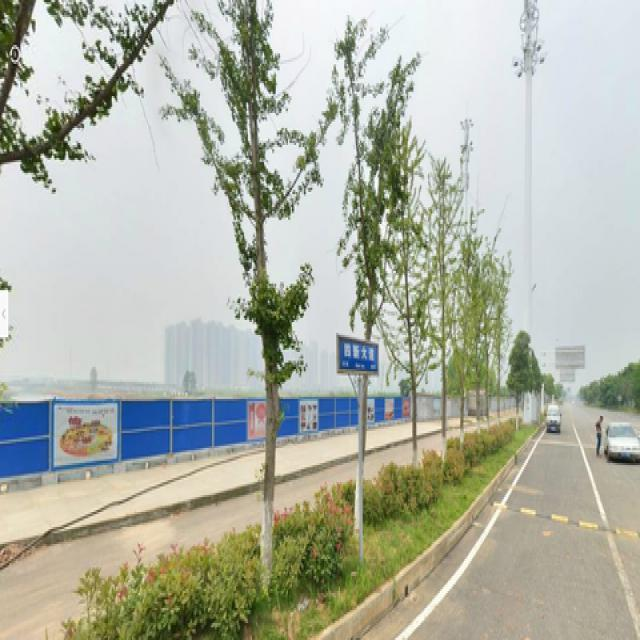gink: (222, 21, 310, 525), (322, 51, 394, 531), (431, 175, 457, 456)
